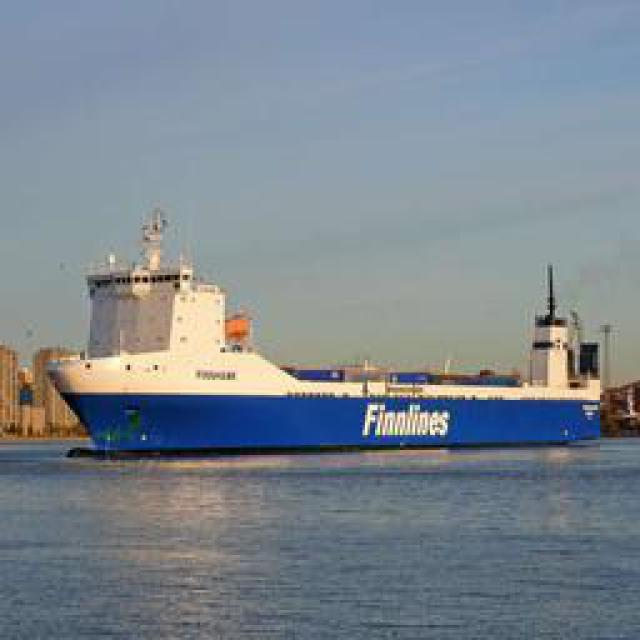Ship: (65, 214, 573, 459)
